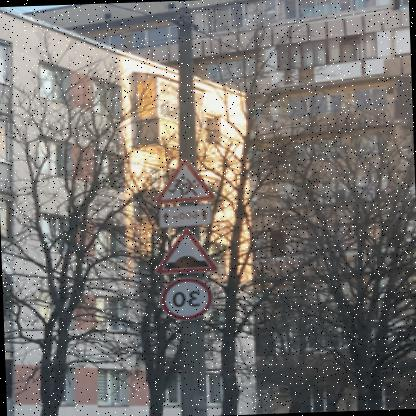speedlimit: (163, 275, 215, 319)
